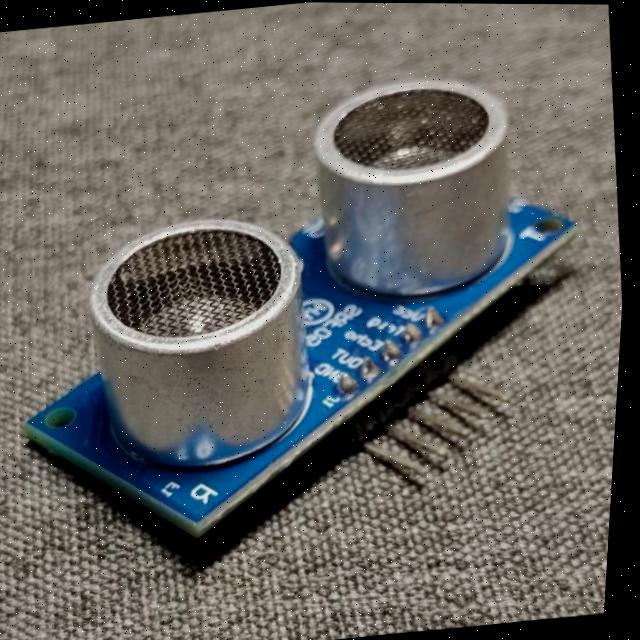Ultrasonic Sensor: (0, 11, 622, 628)
